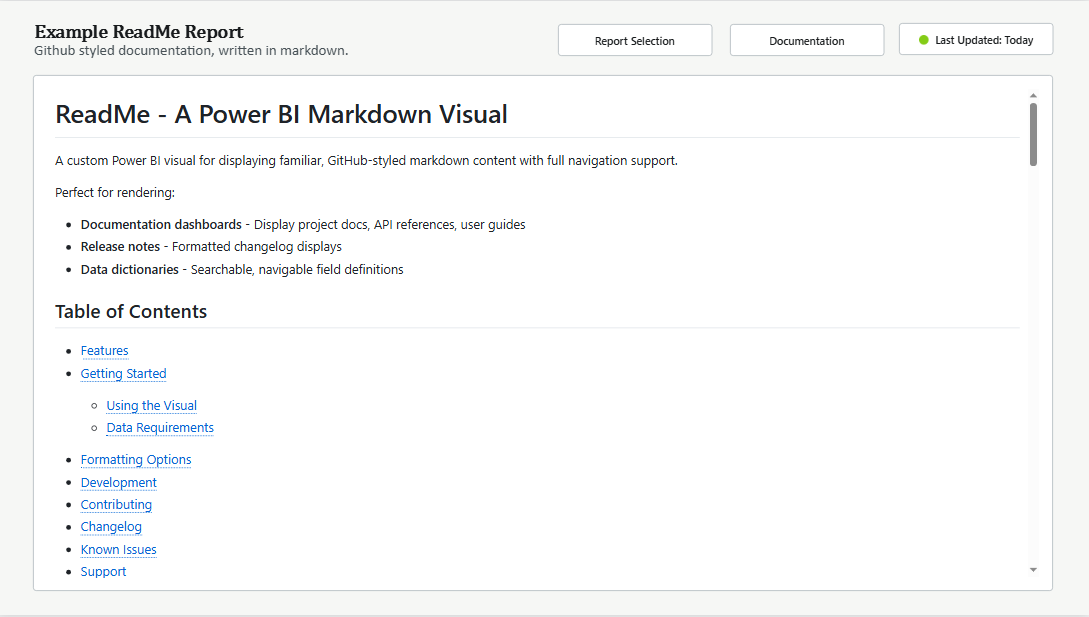

The dashboard page shown, as its layout file describes it:
{"tool":"powerbi","page":{"name":"Page 1","canvas":[960,720],"ordinal":0},"visuals":[{"type":"readmeC5D23D99479C4478885DD956BB5985F1","fields":{"Markdown":["README.MarkdownText"]},"box":[180.8,9.1,672.5,689.7],"z":0}]}

Visuals, with their boxes on the page's 960x720 design canvas (x1, y1, x2, y2). These are canvas units, not pixel positions in the 1089x617 screenshot, which may show the page scaled, cropped or inside an application window:
readmeC5D23D99479C4478885DD956BB5985F1 - README.MarkdownText: region(181, 9, 853, 699)
